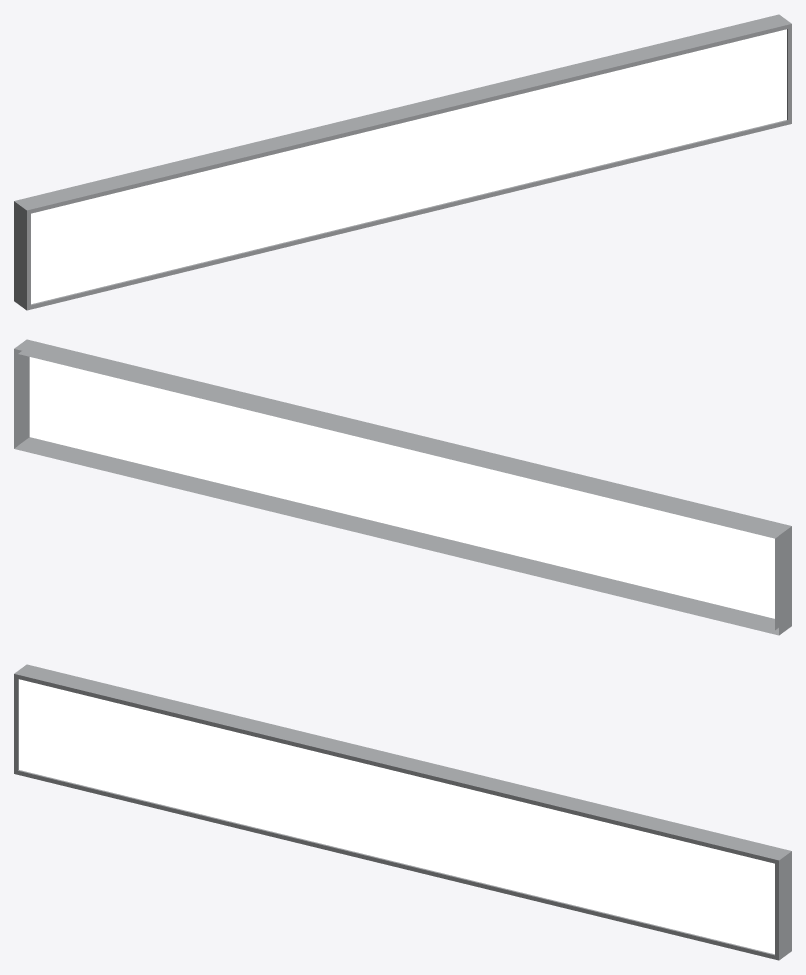
File: gteki_shopfront_fascia_w4800.glb
3 views of the same model, one above another, from view 1: azimuth 30°, elevation 25°; view 2: azimuth 150°, elevation 25°; view 3: azimuth 330°, elevation 25° (orthographic).
Visible parts, largest first — view 1: VIS_body; view 2: VIS_body; view 3: VIS_body.
Part boxes in pixels (left/top/right/bottom): VIS_body: left=14, top=14, right=791, bottom=310; VIS_body: left=14, top=339, right=791, bottom=635; VIS_body: left=14, top=664, right=791, bottom=960.
Bounding box in the file's own units: 4.8 × 0.6 × 0.14.
Materials: 2 (1 with a texture image).
